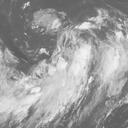cyclone: (25, 9, 104, 103)
